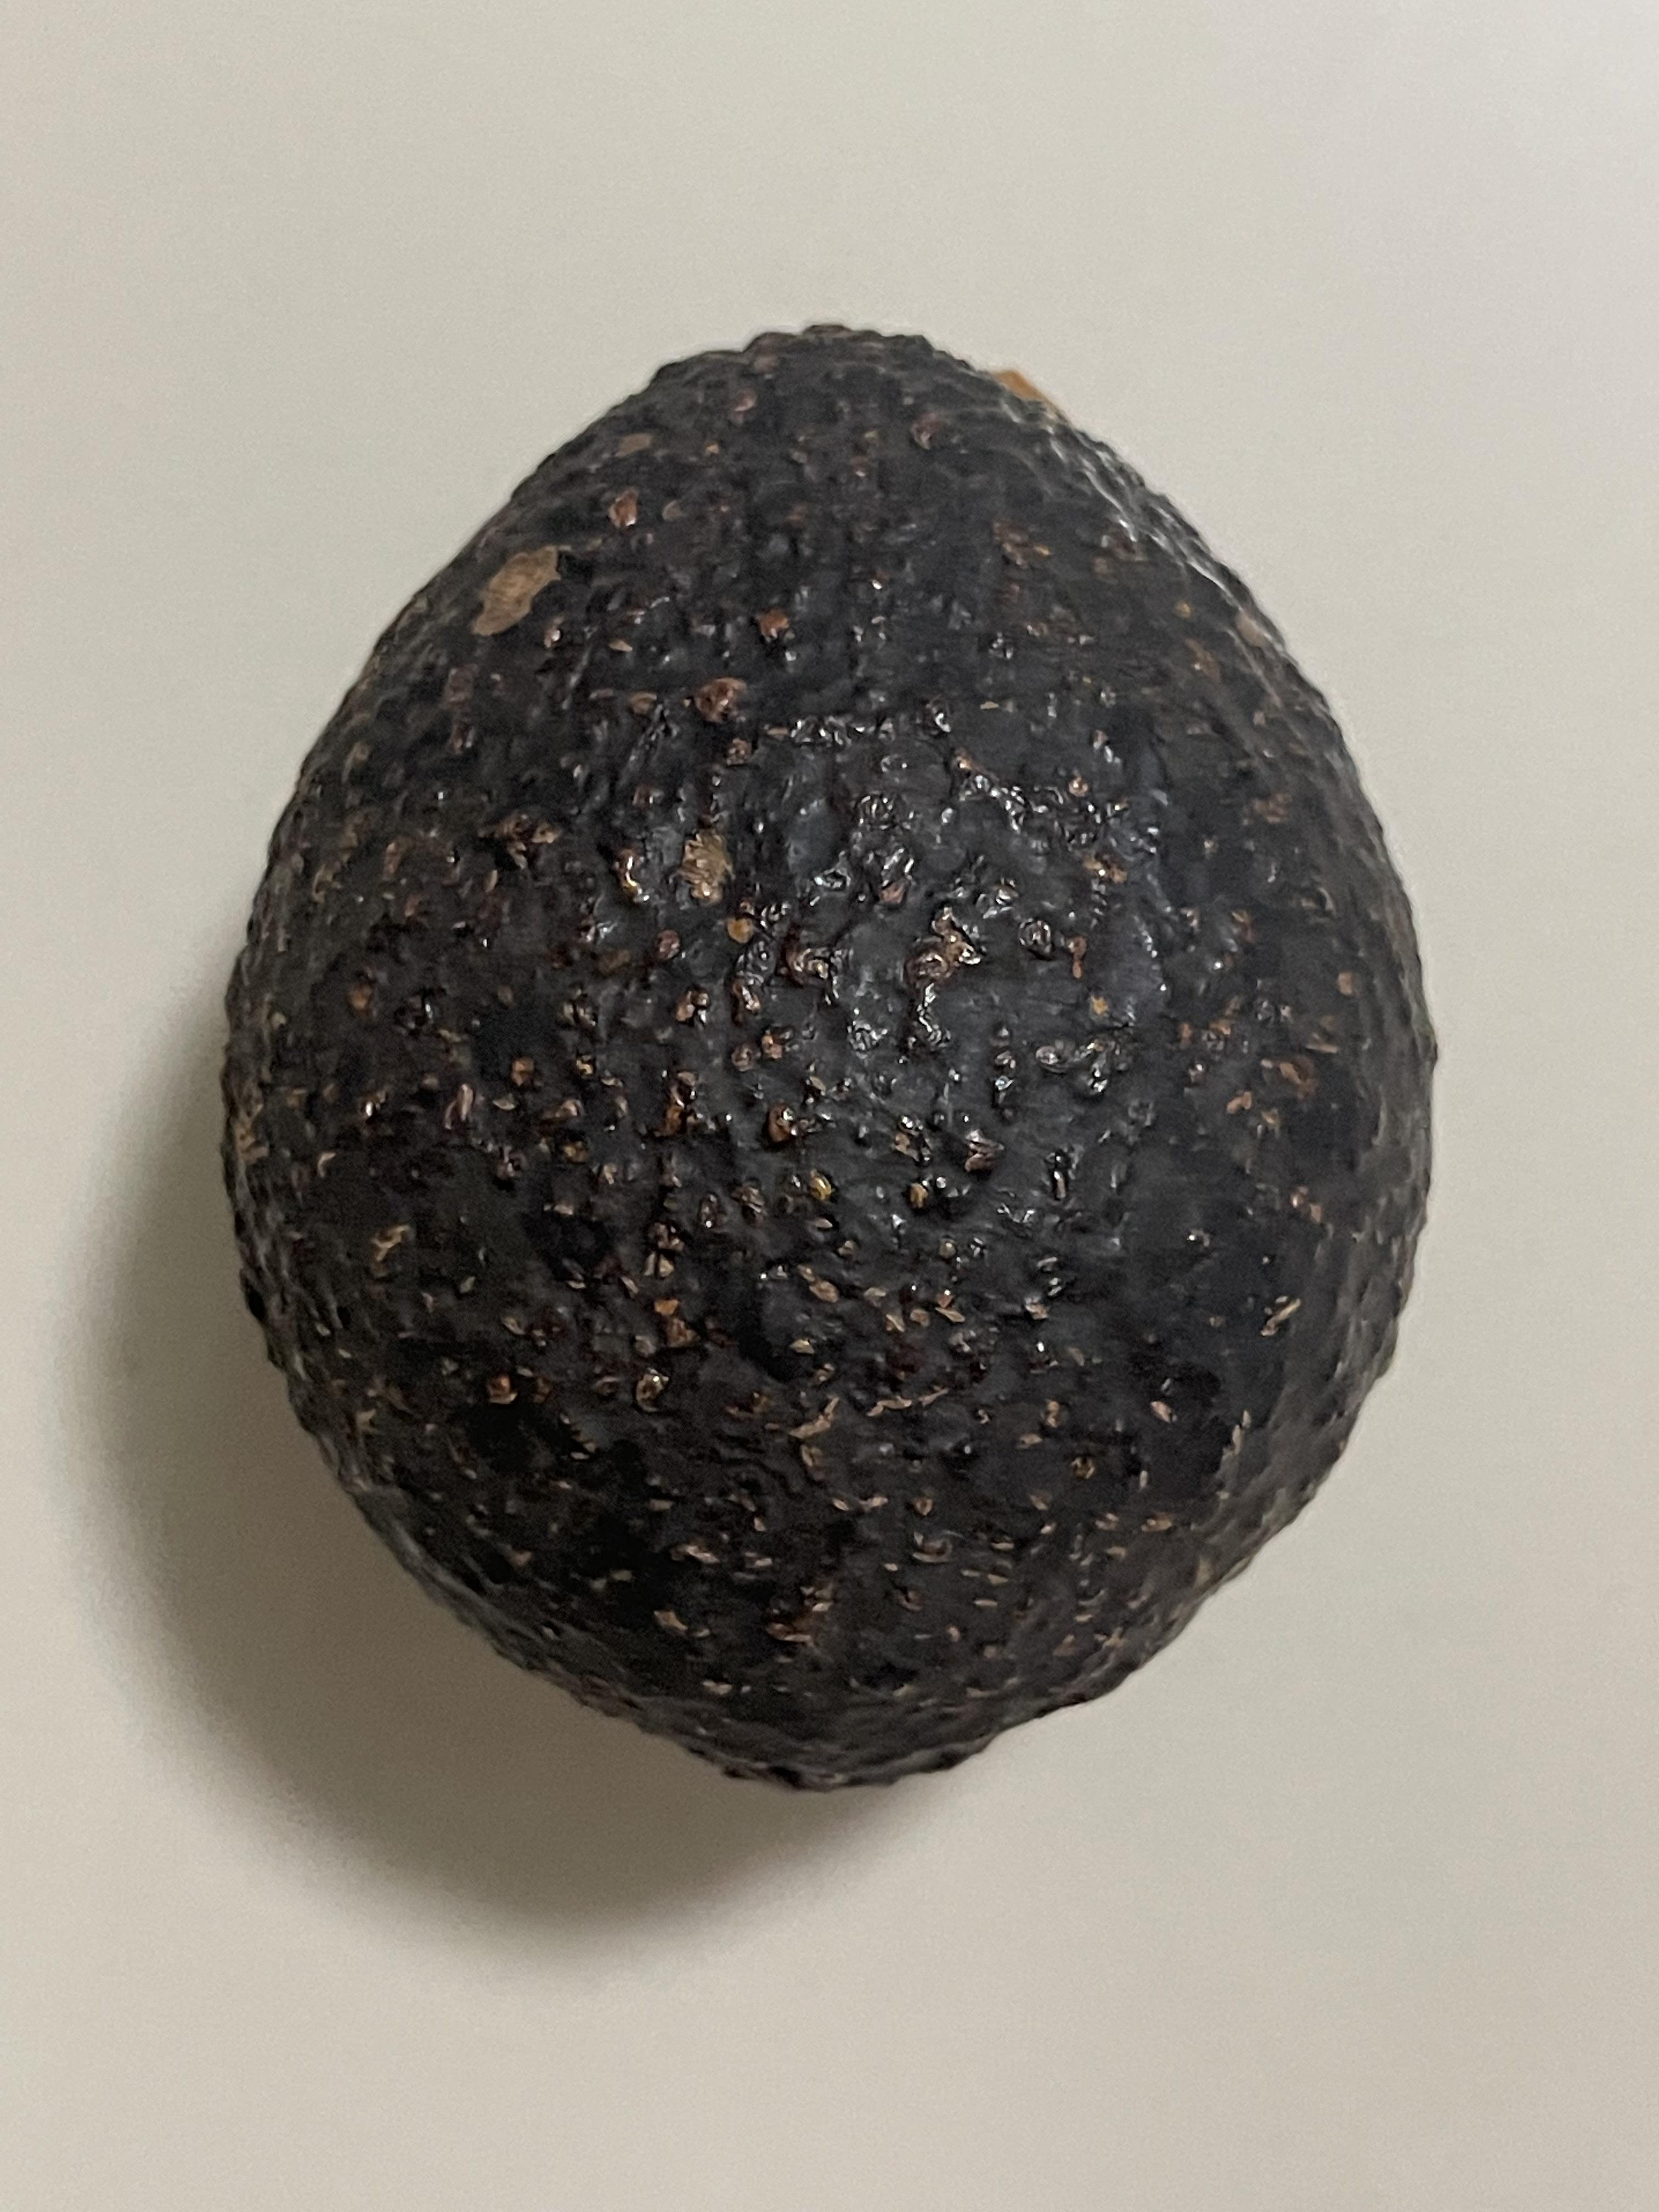Level3: (186, 286, 1471, 1825)
